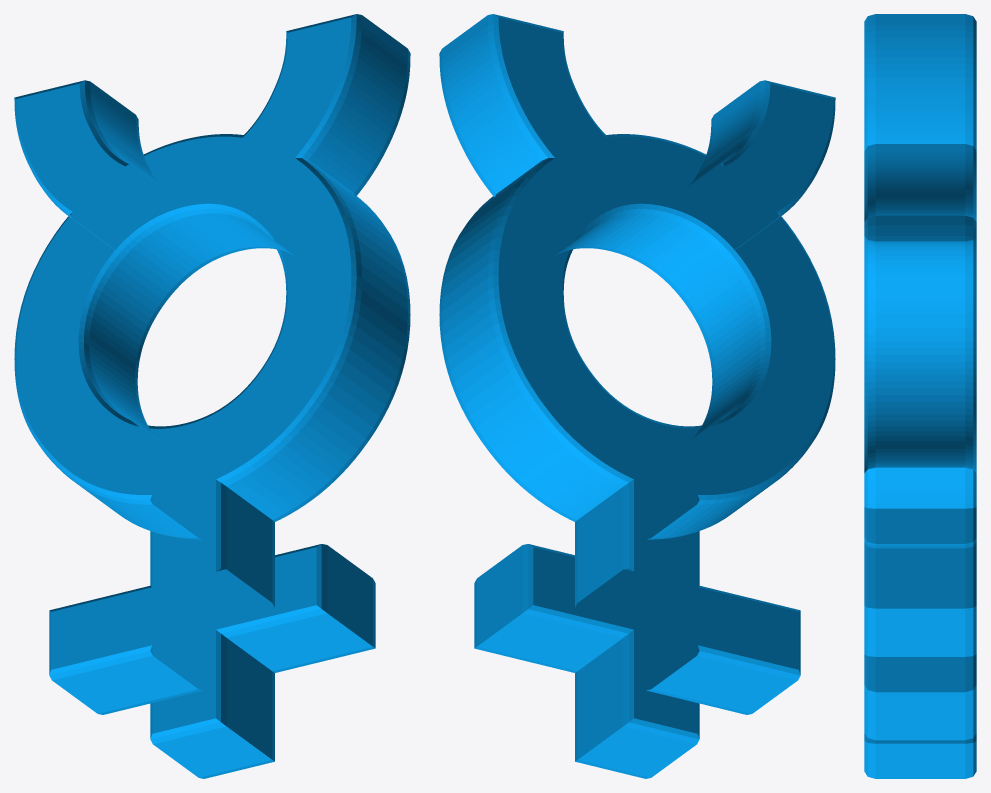
Rendered from glyph_thought.glb.
3 views of the same model, side by side, from view 1: azimuth 30°, elevation 25°; view 2: azimuth 150°, elevation 25°; view 3: azimuth 270°, elevation 25° (orthographic). The views are drawn at different scales.
Size of the model in its own units: 34.83 by 65.41 by 10.
